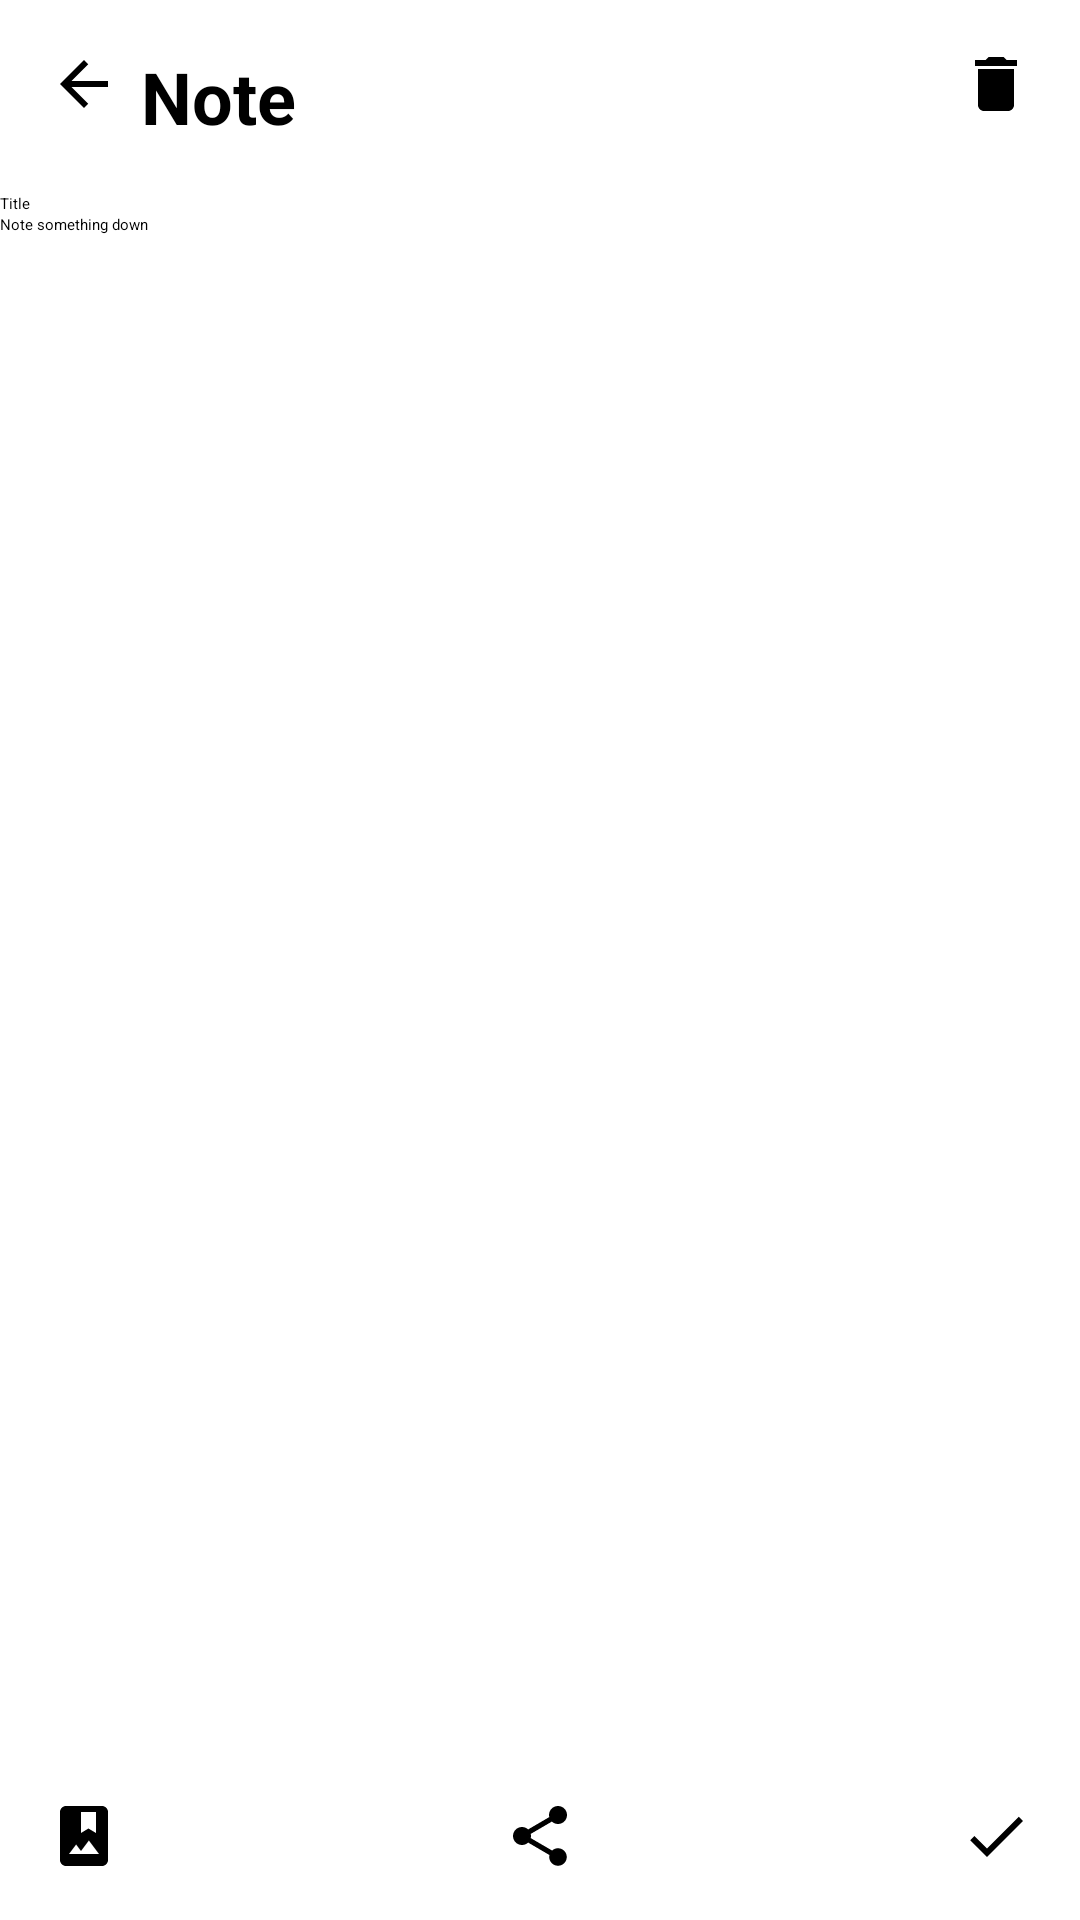

Icon click points for this 1080 × 1920 phone screenshot, format (x=x, y=y):
arrow back: (x=84, y=84)
delete: (x=996, y=84)
done: (x=996, y=1837)
photo album: (x=84, y=1836)
share: (x=540, y=1836)
